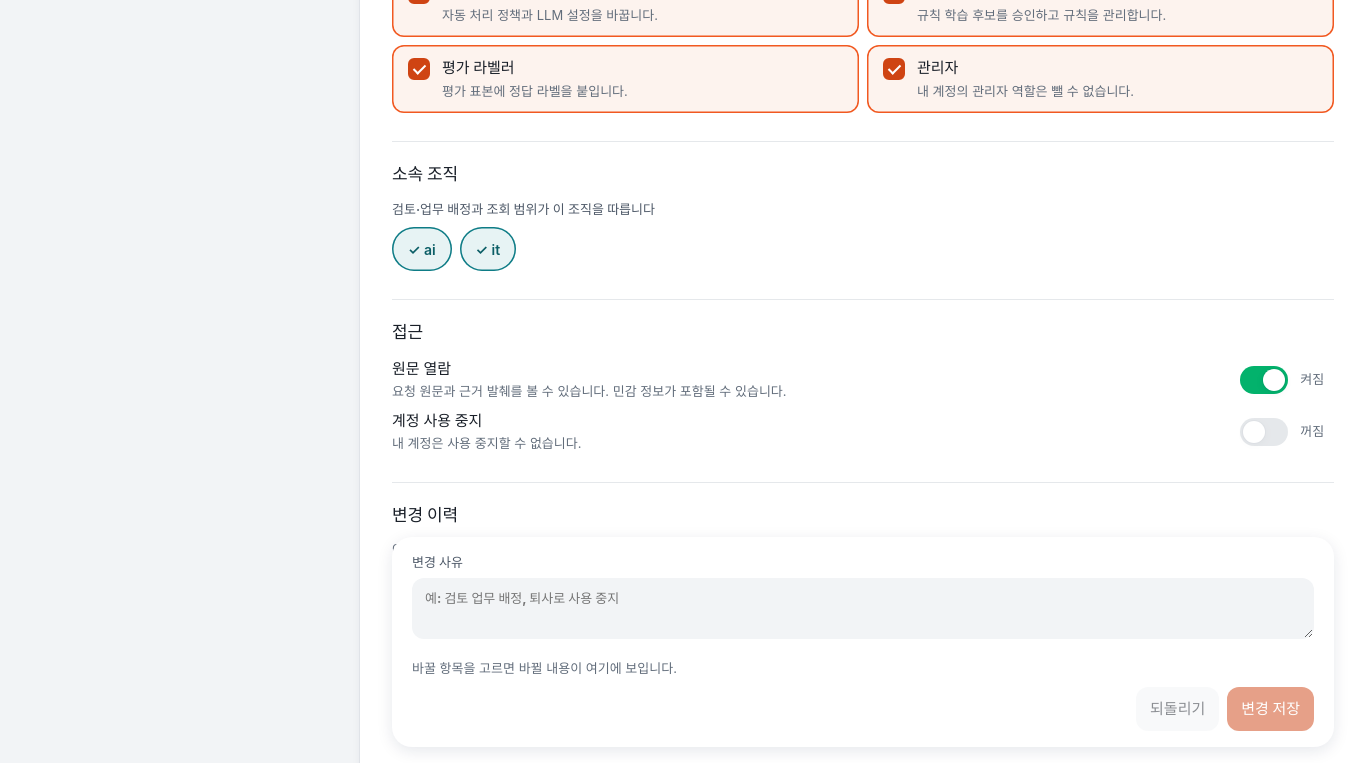
it: account administration › reloads conflicting changes and clears the draft (self=true)
(page scrolled)
Click the switch named "원문 열람" next to "켜짐": click(1264, 380) [1240,366,1288,394]
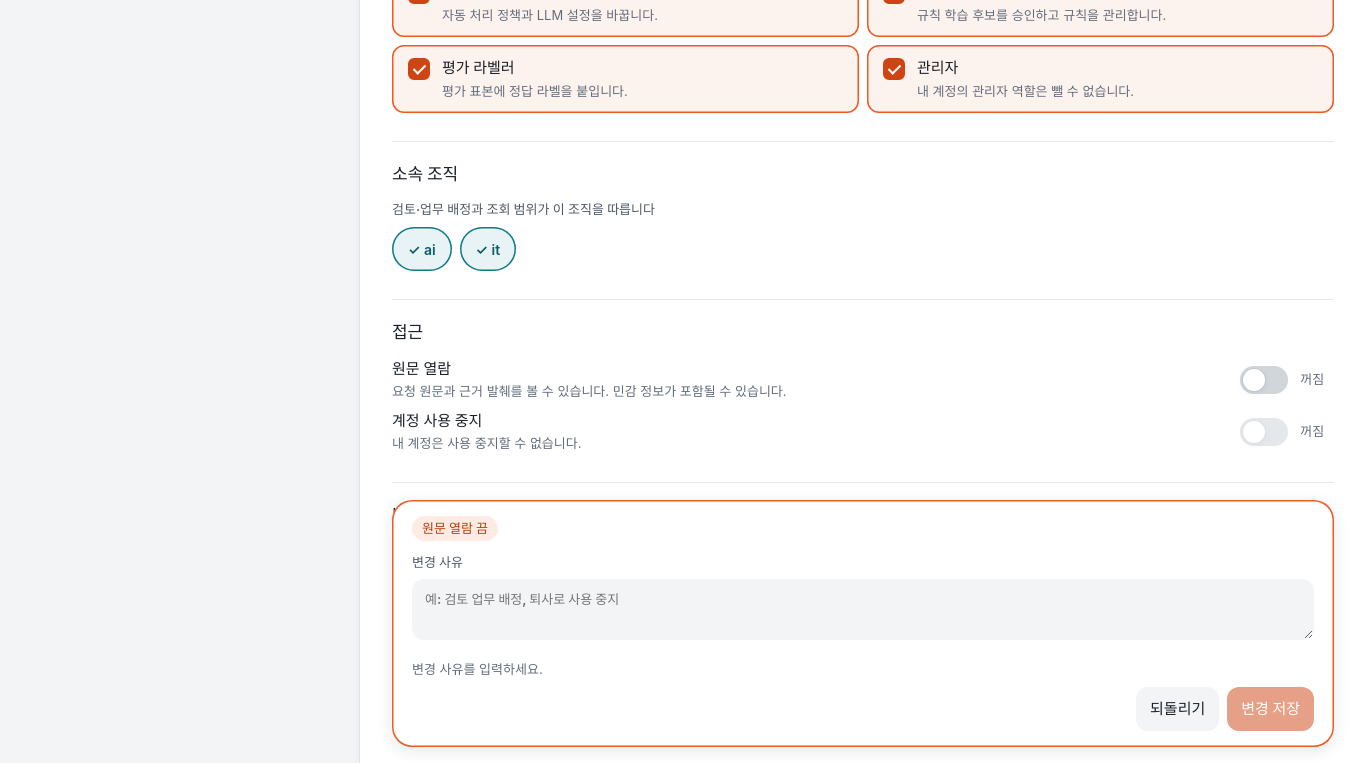
In the text box labelled "변경 사유": (863, 609) [412,578,1314,640], type "update access"
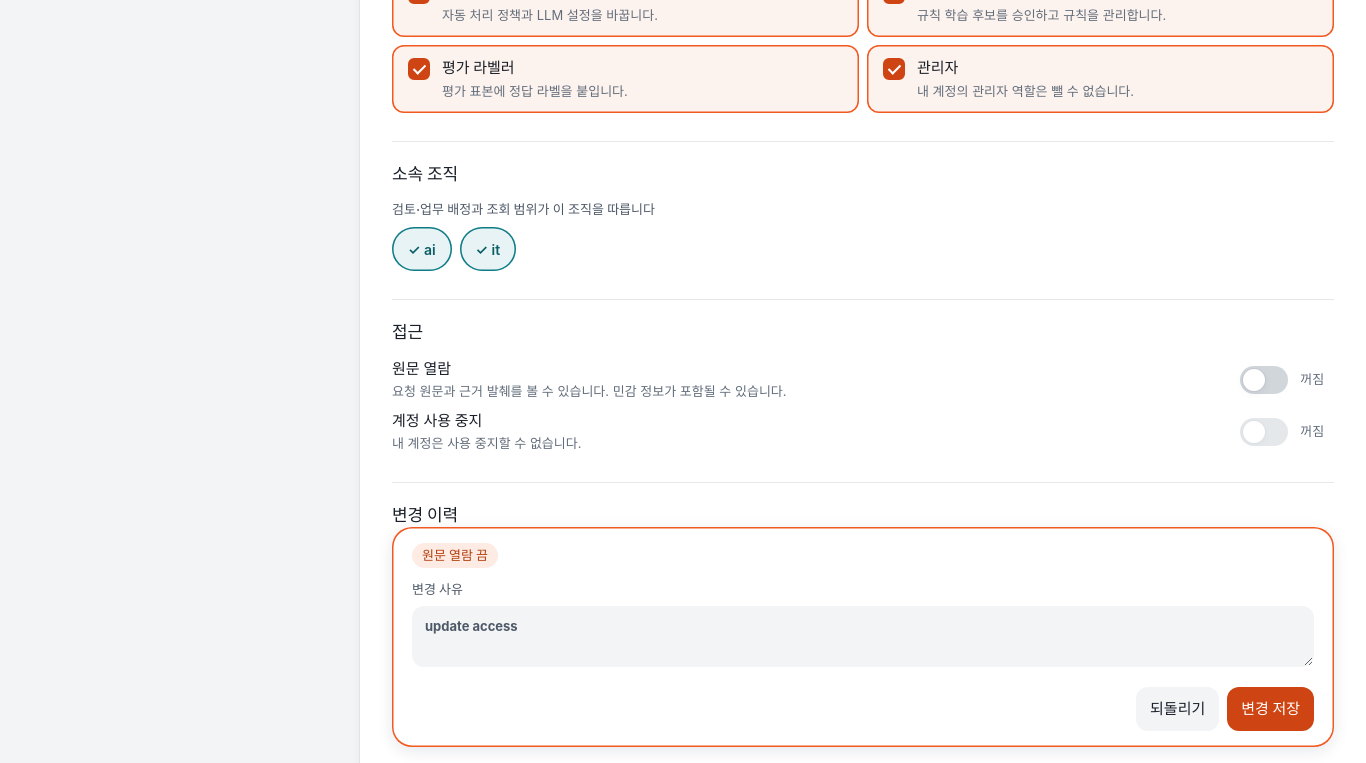
Click the button "변경 저장": click(1271, 709) [1227,687,1314,731]
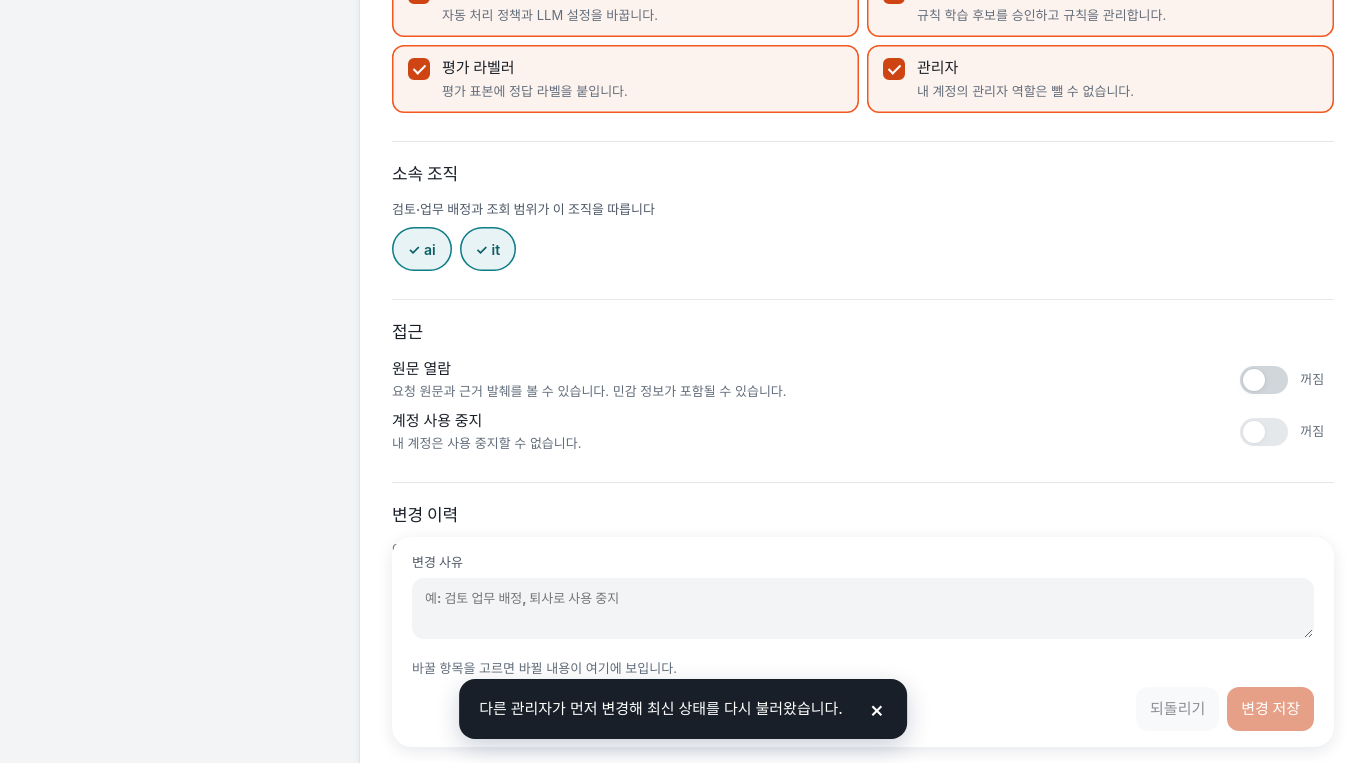
Check: the text box labelled "변경 사유" is empty, box [412,578,1314,640]
Check: the button "변경 저장" is disabled, box [1227,687,1314,731]
